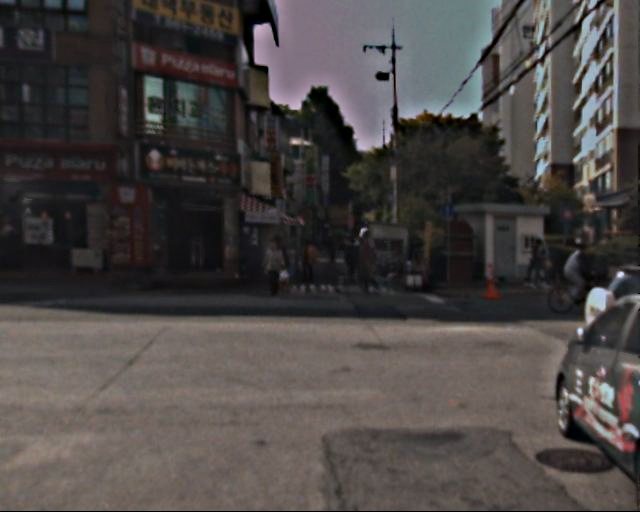person: (564, 244, 589, 306), (356, 234, 381, 294), (267, 239, 291, 298), (530, 235, 553, 291), (298, 236, 319, 287), (381, 249, 398, 291), (344, 237, 361, 278), (327, 226, 340, 258)
